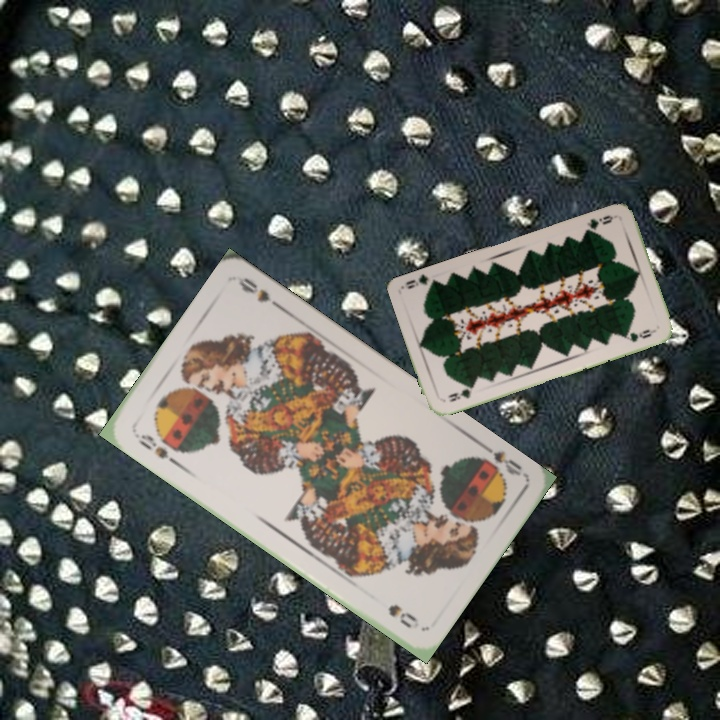G9: (582, 211, 616, 235), (444, 382, 477, 405)
SO: (468, 438, 525, 479), (130, 426, 181, 468)
